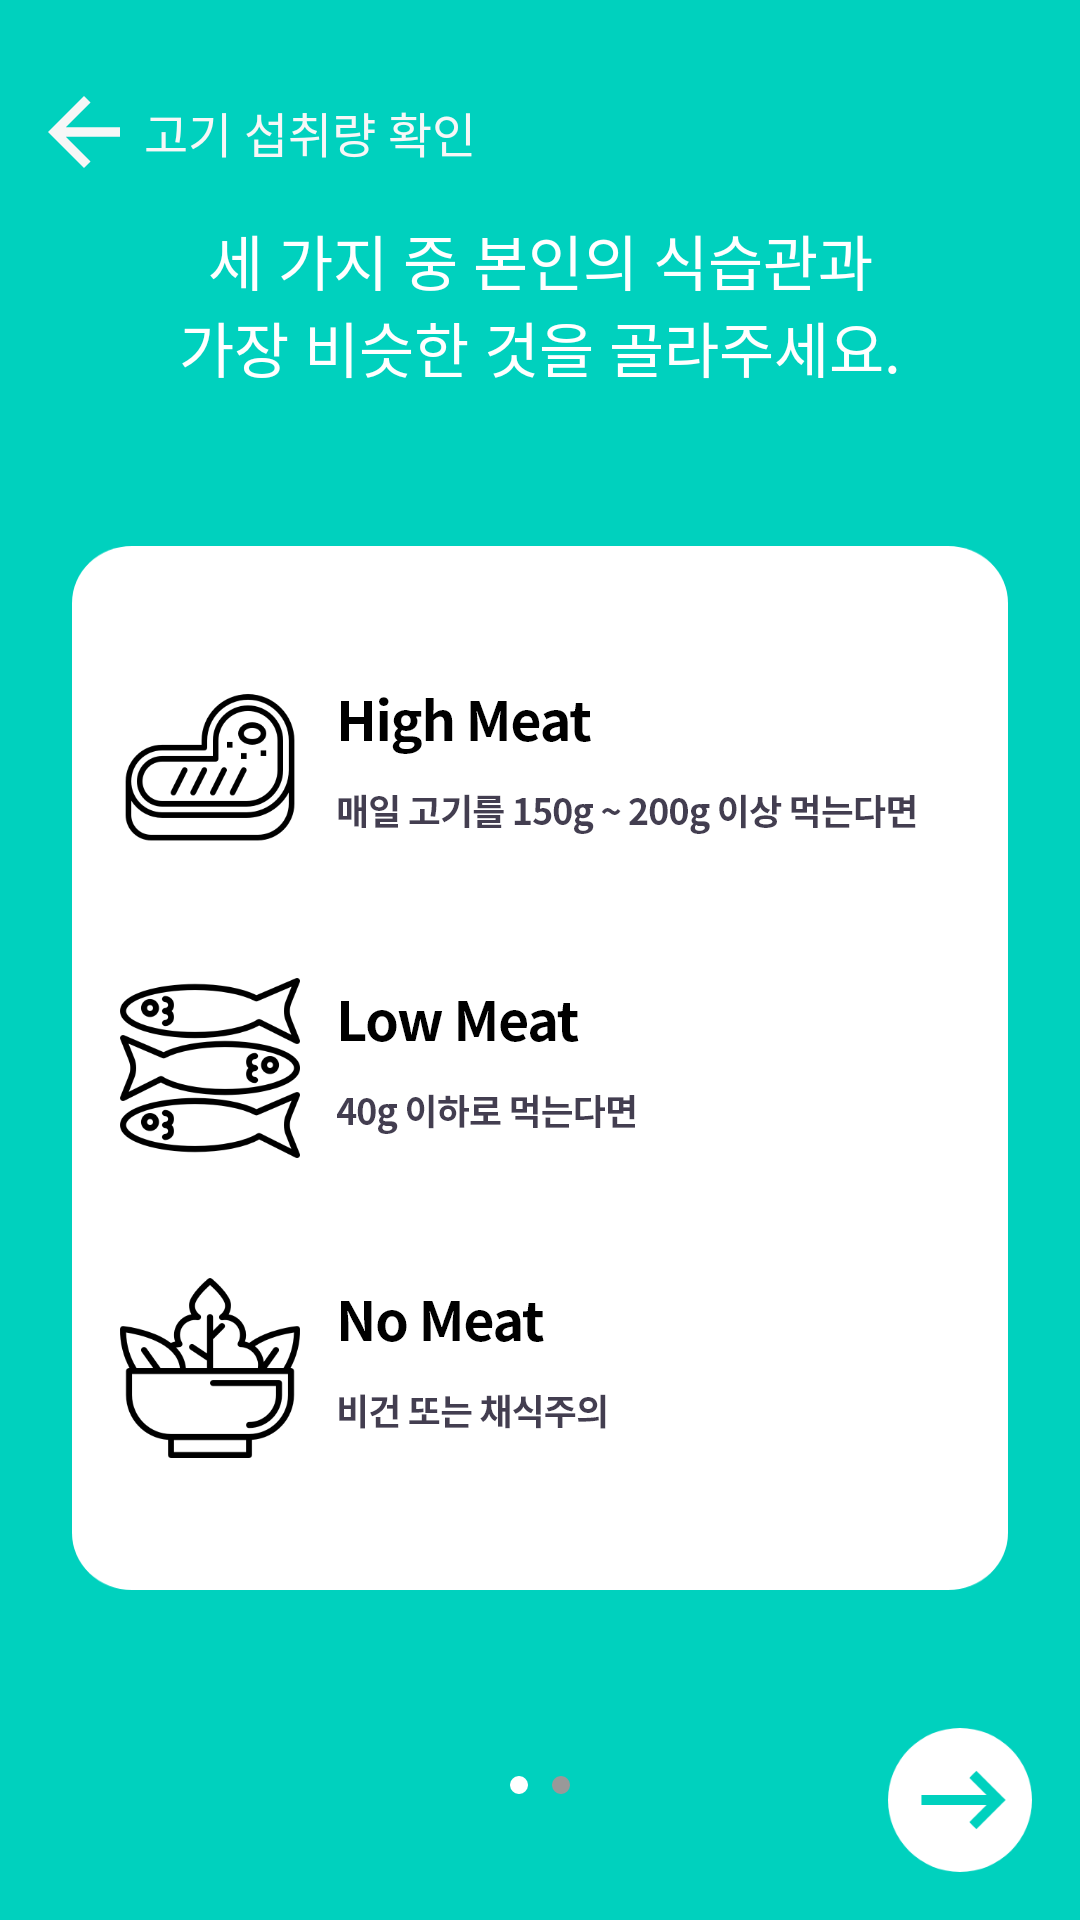

Icons on this 1080*1920 Android screen, each with its box as bbox=(x1, y1, x2, y2):
backward arrow: bbox=(48, 96, 120, 168)
